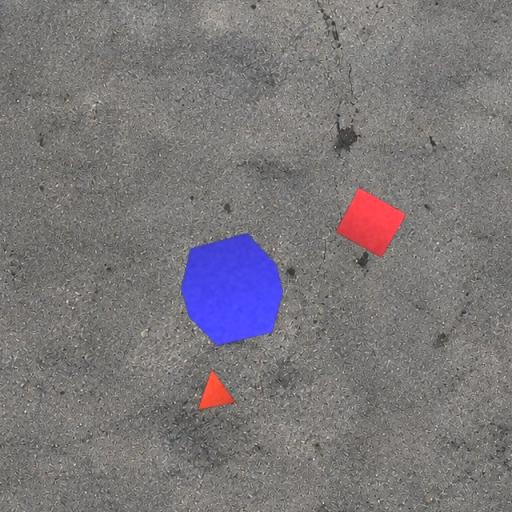RED_SQUARE: (335, 186, 407, 258)
